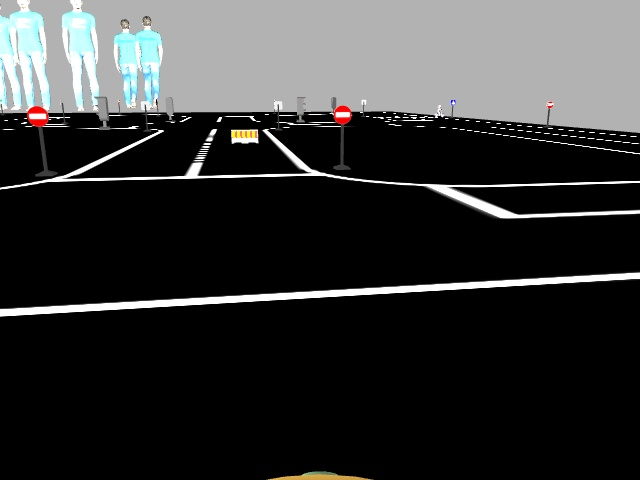ClosedRoadStand: (230, 131, 257, 143)
NoEntry: (26, 107, 50, 129), (332, 108, 350, 122)
